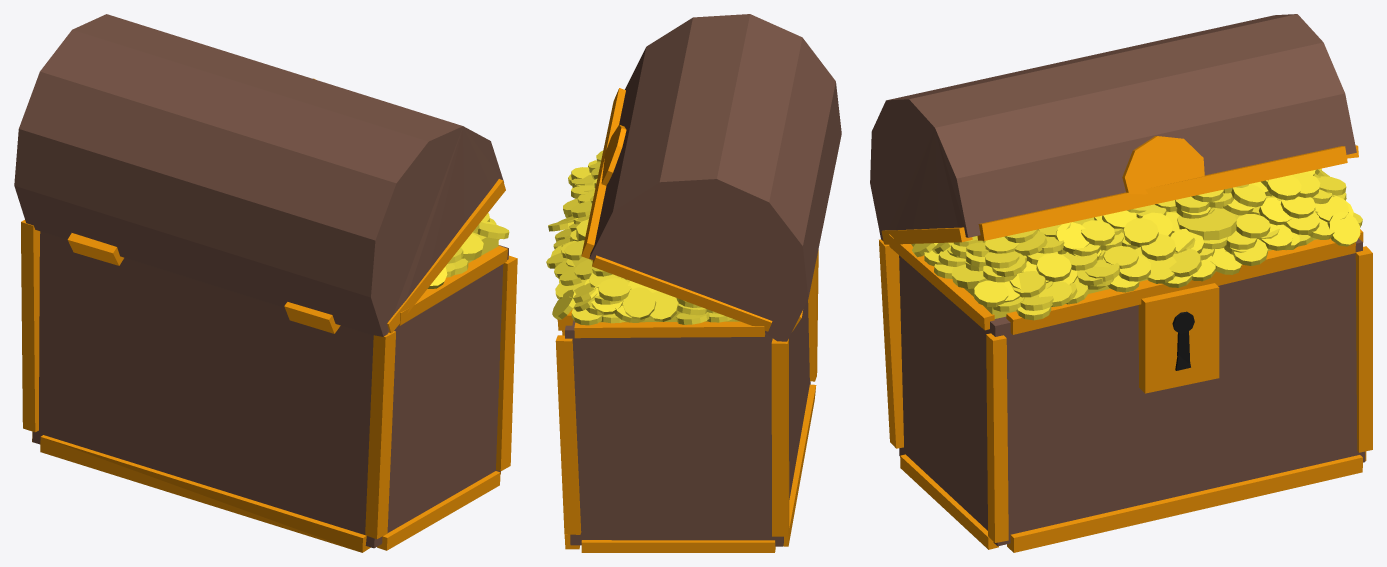
Rendered from building-chest.glb.
3 views of the same model, side by side, from view 1: azimuth 30°, elevation 25°; view 2: azimuth 150°, elevation 25°; view 3: azimuth 270°, elevation 25° (orthographic). The views are drawn at different scales.
Parts seen in each view (by area): view 1: group1673624899, group1188779229, group1246643598; view 2: group1673624899, group1188779229, group1246643598; view 3: group1673624899, group1188779229, group1246643598, group1997844524.
Boxes of the visible parts, x1,y1,x2,y2 form: group1673624899: [14, 14, 508, 548]; group1188779229: [21, 78, 517, 552]; group1246643598: [427, 213, 509, 288]; group1673624899: [565, 14, 841, 546]; group1188779229: [555, 88, 818, 552]; group1246643598: [546, 150, 739, 325]; group1673624899: [870, 14, 1365, 546]; group1188779229: [879, 136, 1372, 552]; group1246643598: [911, 168, 1362, 320]; group1997844524: [1172, 311, 1194, 370].
Size of the model in its own units: 0.3611 by 0.3813 by 0.4293.
